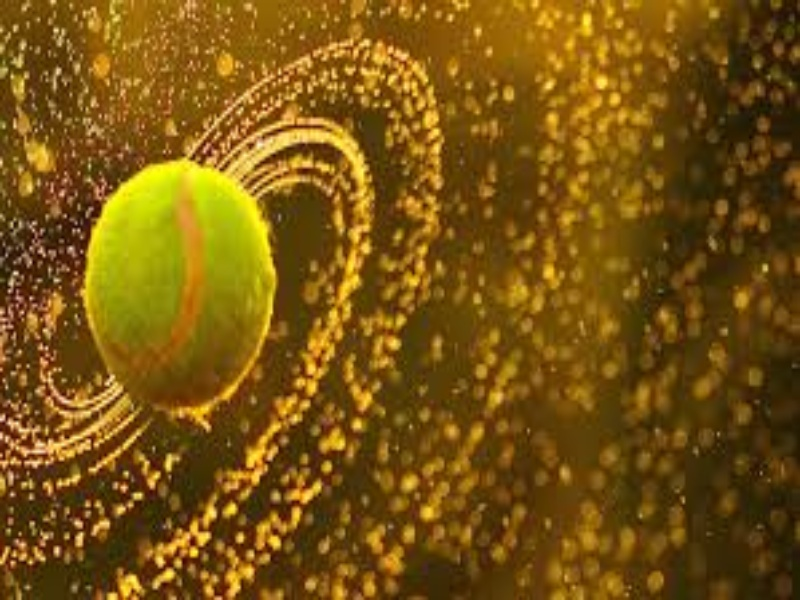tennis ball: (88, 143, 290, 420)
